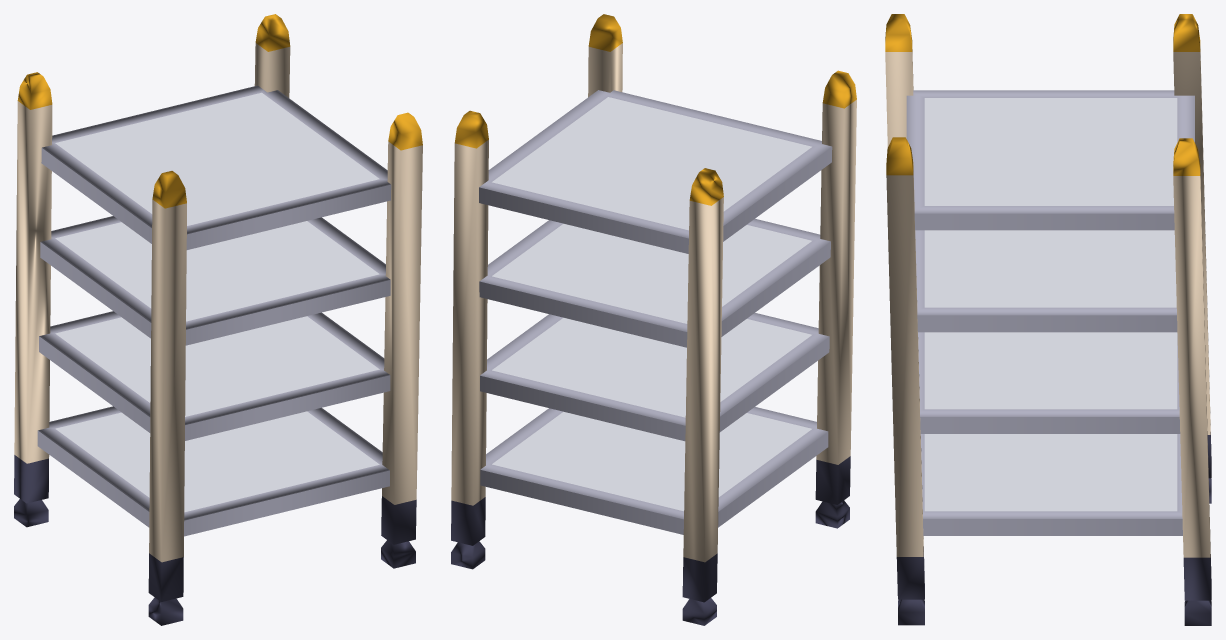
File: shelf.glb
3 renders of one model, left to right at view 1: azimuth 30°, elevation 25°; view 2: azimuth 150°, elevation 25°; view 3: azimuth 270°, elevation 25°, orthographic. The views are drawn at different scales.
Visible parts, largest first — view 1: shelf; view 2: shelf; view 3: shelf.
Boxes of the visible parts, left/top/right/bottom form: shelf: left=14, top=14, right=422, bottom=625; shelf: left=451, top=14, right=856, bottom=625; shelf: left=885, top=14, right=1211, bottom=625.
Size of the model in its own units: 1 by 1.65 by 1.02.
